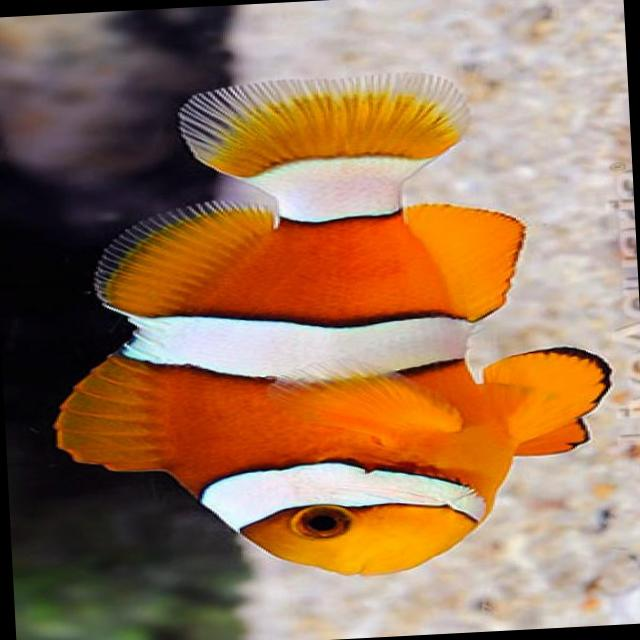ClownFish: (32, 56, 625, 590)
